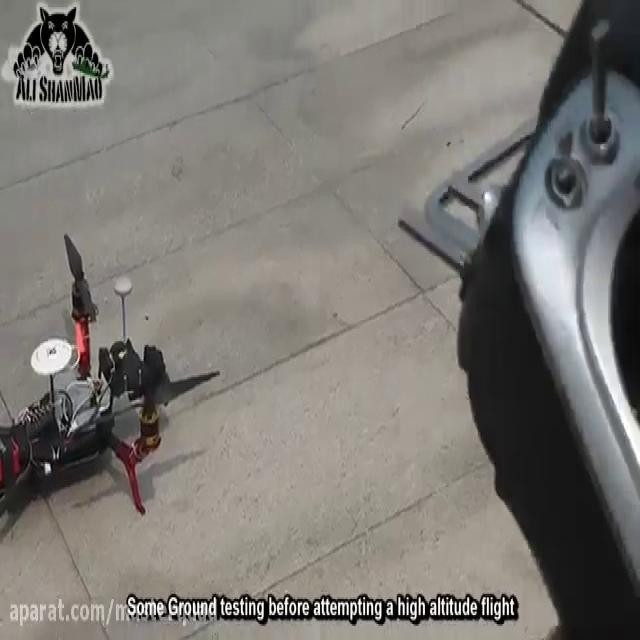drone: (0, 230, 226, 550)
